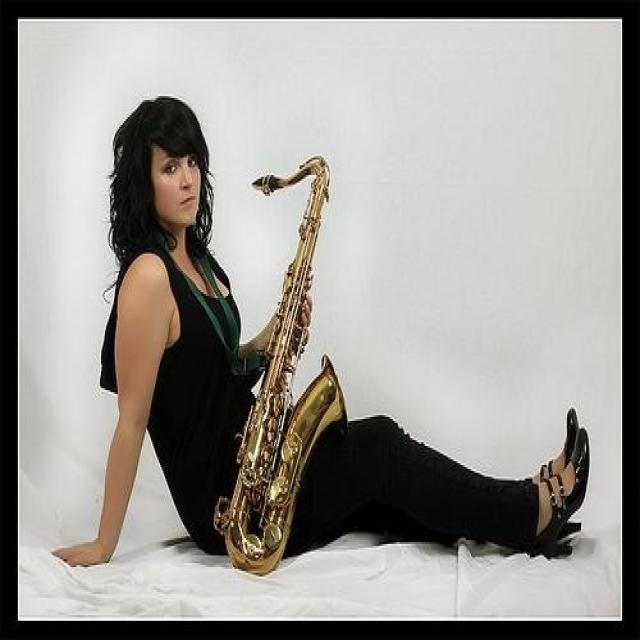saxophone: (222, 147, 349, 570)
